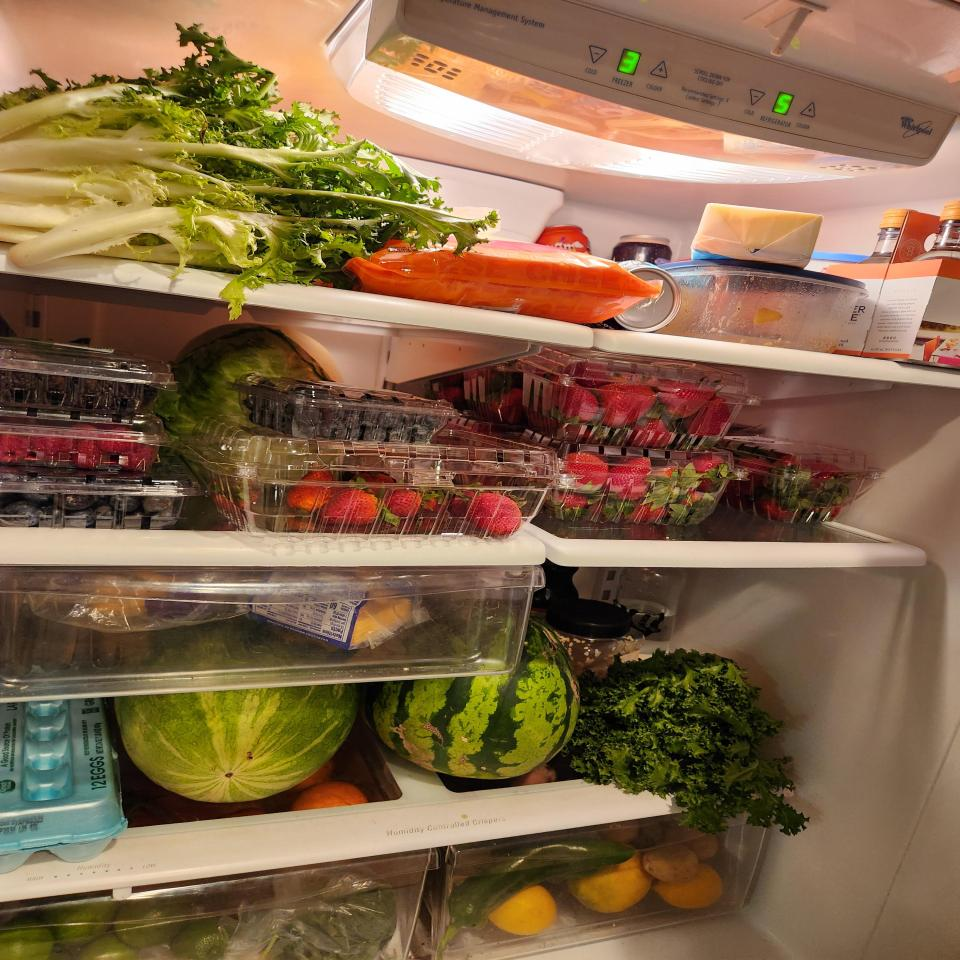Huevos: (1, 665, 125, 874)
Lechuga/Endivia: (0, 24, 485, 307), (576, 650, 820, 838)
Limón: (571, 860, 648, 914), (491, 887, 559, 937), (657, 866, 723, 911)
Queso: (695, 203, 822, 270)
blueberries: (250, 376, 456, 445), (0, 471, 193, 532)
lime: (115, 895, 184, 947), (52, 899, 115, 944), (172, 920, 230, 960), (0, 918, 54, 960)
orange: (293, 781, 367, 816)
strawberries: (208, 431, 553, 539), (534, 358, 744, 446), (549, 446, 736, 529), (734, 439, 856, 526)
